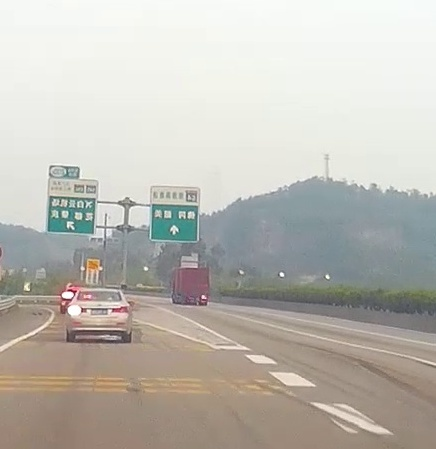L_light: (68, 306, 88, 314)
R_light: (112, 306, 129, 313)
T_light: (93, 290, 104, 293)
day-left: (66, 288, 132, 342)
